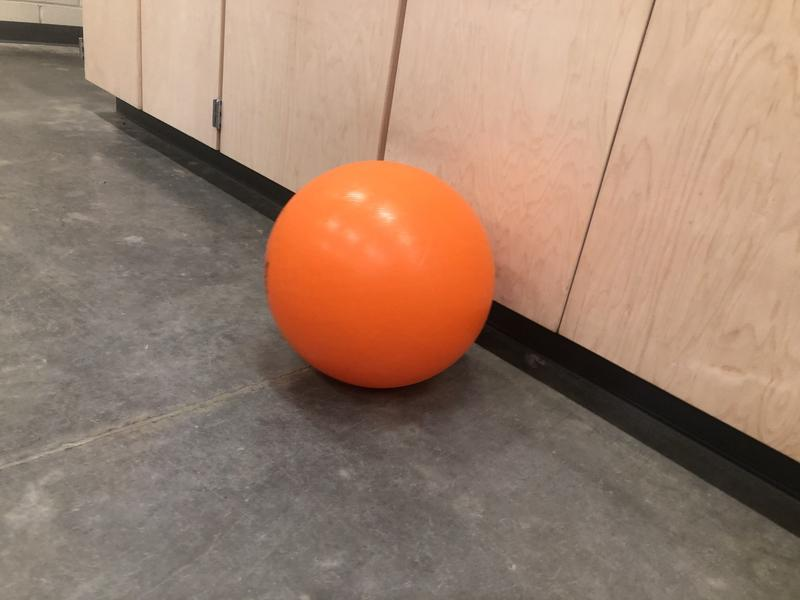ball: (265, 161, 497, 387)
